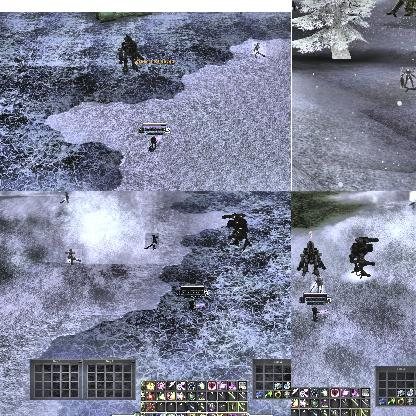caliana: (400, 67, 416, 89), (145, 233, 159, 249), (66, 249, 82, 263), (311, 276, 325, 292), (252, 42, 266, 56), (60, 191, 70, 203)
